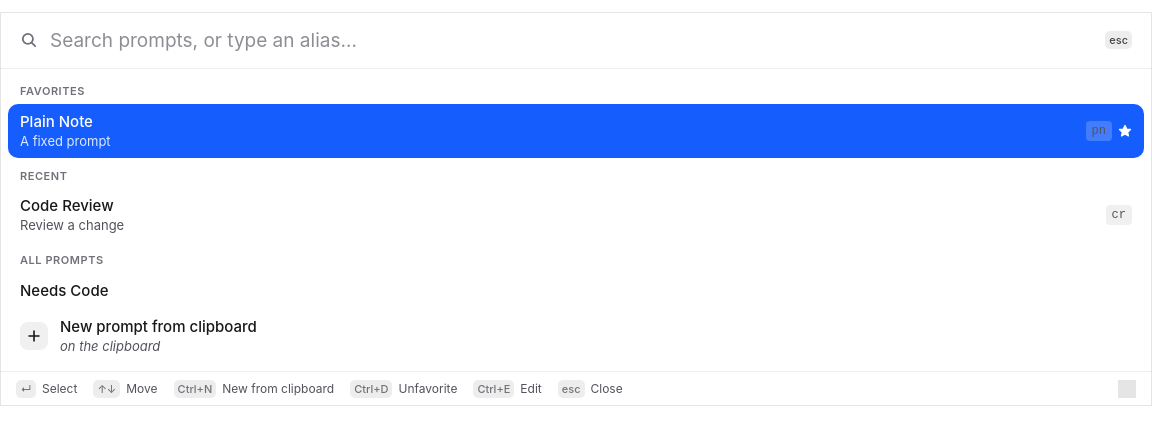
Test case: launcher: finding a prompt › says when nothing matches
In the dropdown labelled "Search prompts": (572, 40) [50,12,1093,68], type "zzz"
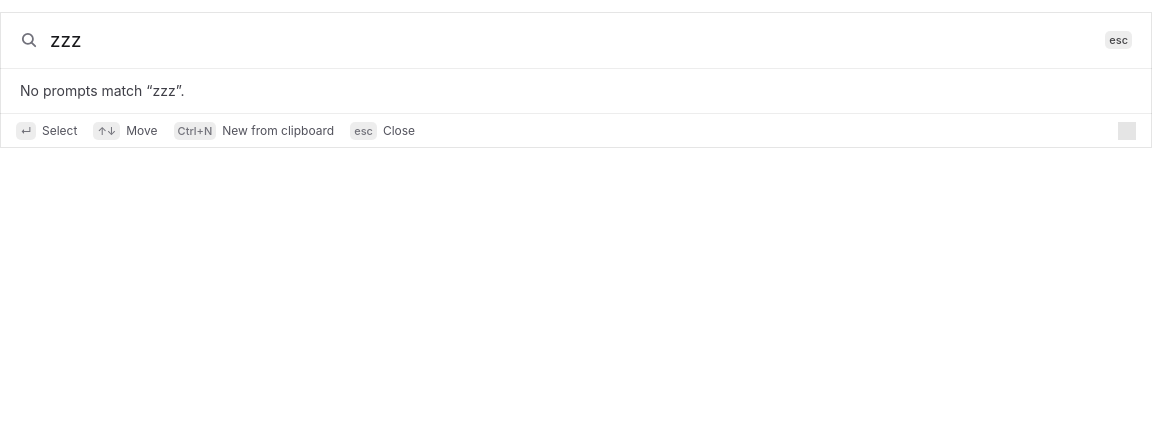
Expected: the text "No prompts match “zzz”." is shown, [20,82,184,99]
